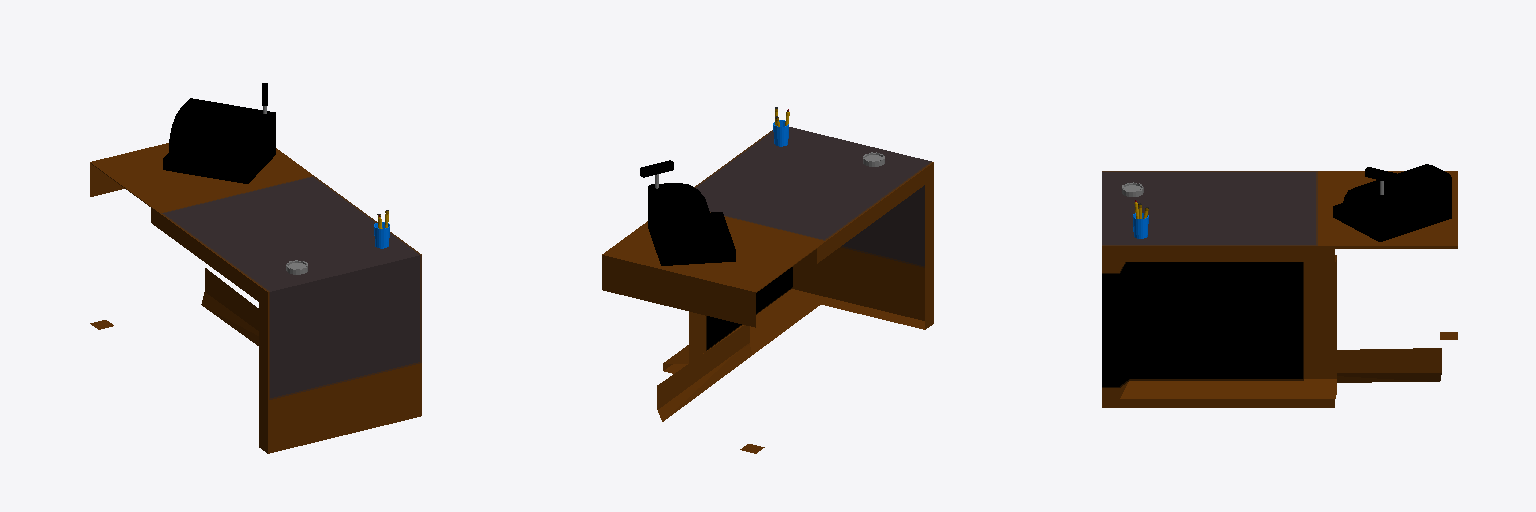
3 views of the same model, side by side, from view 1: azimuth 30°, elevation 25°; view 2: azimuth 150°, elevation 25°; view 3: azimuth 270°, elevation 25° (orthographic).
Visible parts, largest first — view 1: pCube1, pCube2; view 2: pCube1, pCube2; view 3: pCube1, pCube2.
Boxes of the visible parts, <box> form: pCube1: <box>90,143,421,453</box>; pCube2: <box>163,98,275,183</box>; pCube1: <box>602,127,933,453</box>; pCube2: <box>648,183,735,265</box>; pCube1: <box>1102,171,1457,407</box>; pCube2: <box>1333,164,1451,241</box>.
Bounding box in the file's own units: 1 × 1.41 × 2.
6 materials, 4 textured.